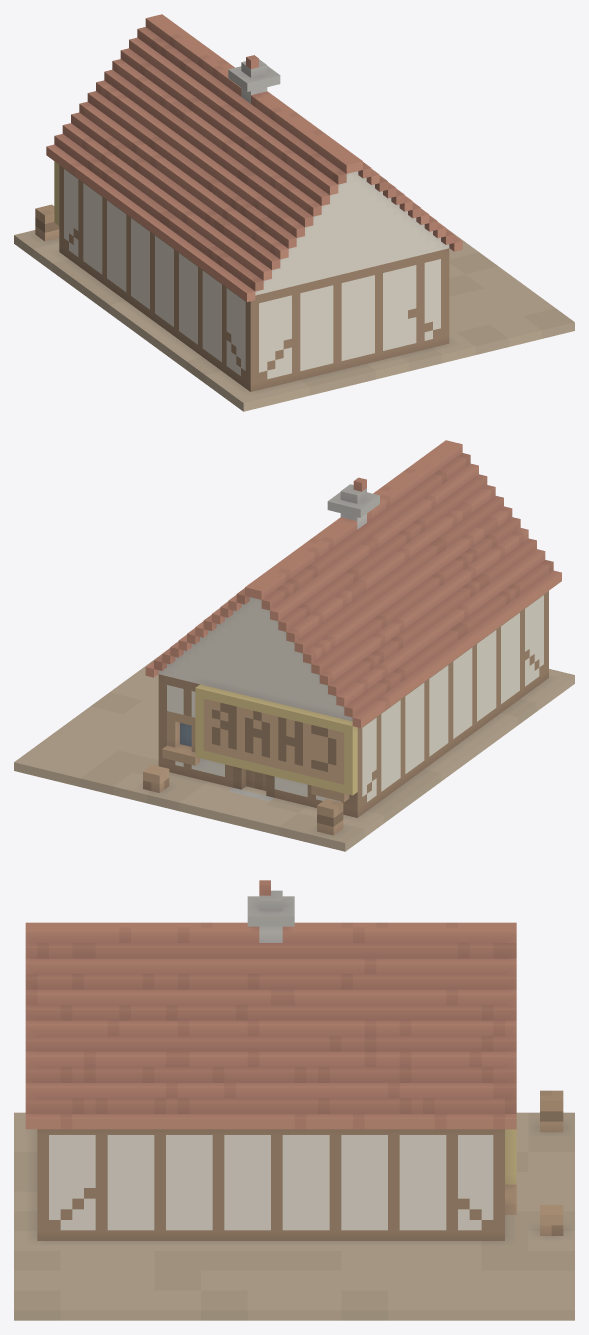
The model's file is charcoal_burner.glb.
The picture shows the model from 3 angles, top to bottom: view 1: azimuth 30°, elevation 25°; view 2: azimuth 150°, elevation 25°; view 3: azimuth 270°, elevation 25°; orthographic projection. The views are drawn at different scales.
Visible parts, largest first — view 1: charcoal_burner; view 2: charcoal_burner; view 3: charcoal_burner.
Boxes of the visible parts, x1,y1,x2,y2 form: charcoal_burner: (14,14,574,411); charcoal_burner: (14,440,574,851); charcoal_burner: (14,880,574,1320).
Bounding box in the file's own units: 5 × 3.62 × 6.
